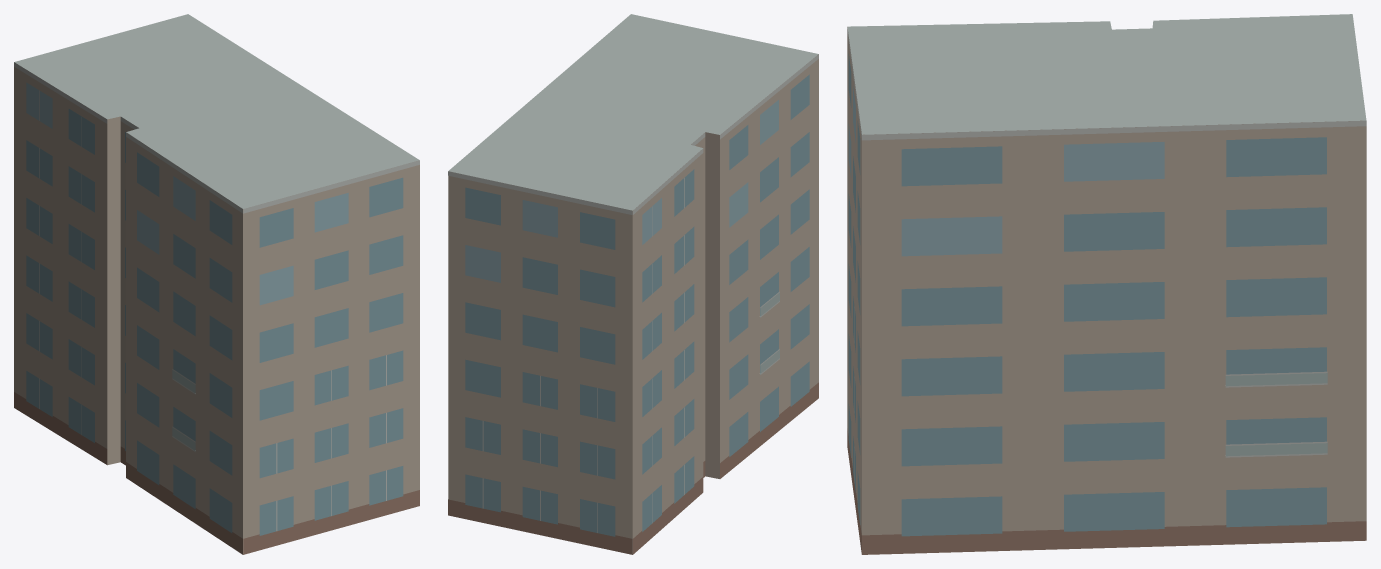
Rendered from survey-upis-32702523.glb.
3 renders of one model, left to right at view 1: azimuth 30°, elevation 25°; view 2: azimuth 150°, elevation 25°; view 3: azimuth 270°, elevation 25°, orthographic. The views are drawn at different scales.
Parts seen in each view (by area): view 1: survey-upis-32702523.tmp; view 2: survey-upis-32702523.tmp; view 3: survey-upis-32702523.tmp.
Part boxes in pixels (left/top/right/bottom): survey-upis-32702523.tmp: left=14, top=14, right=419, bottom=554; survey-upis-32702523.tmp: left=448, top=14, right=818, bottom=554; survey-upis-32702523.tmp: left=847, top=14, right=1366, bottom=554.
Bounding box in the file's own units: 11.3 × 18.3 × 20.5.
